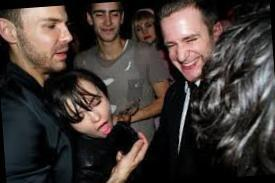Drunk: (161, 12, 208, 81), (23, 10, 72, 71), (65, 86, 114, 138), (92, 2, 120, 40)
